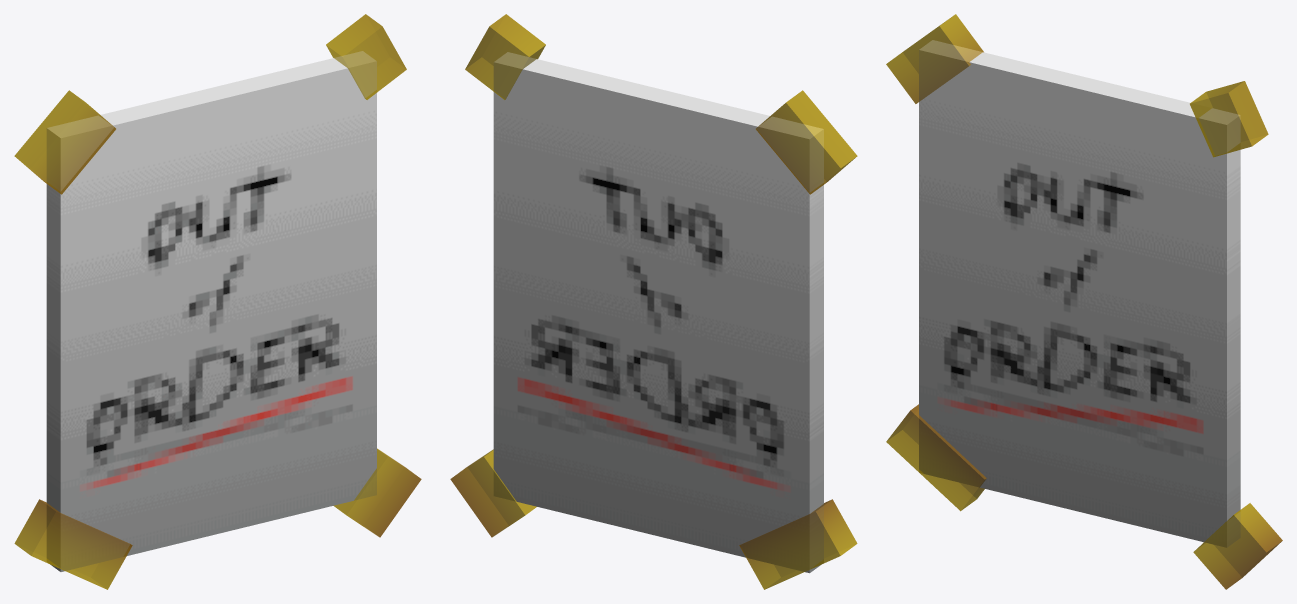
Rendered from Sign_OutOfOrder_2_Laundromat.fbx.
3 views of the same model, side by side, from view 1: azimuth 30°, elevation 25°; view 2: azimuth 150°, elevation 25°; view 3: azimuth 330°, elevation 25° (orthographic). The views are drawn at different scales.
Parts seen in each view (by area): view 1: Sign_OutOfOrder_2.Laundromat; view 2: Sign_OutOfOrder_2.Laundromat; view 3: Sign_OutOfOrder_2.Laundromat.
Part boxes in pixels (x1=…): Sign_OutOfOrder_2.Laundromat: x1=14, y1=14, x2=421, y2=589; Sign_OutOfOrder_2.Laundromat: x1=450, y1=14, x2=857, y2=589; Sign_OutOfOrder_2.Laundromat: x1=886, y1=14, x2=1282, y2=589.
Bounding box in the file's own units: 40 × 50 × 3.
Materials: 2 (2 with a texture image).
